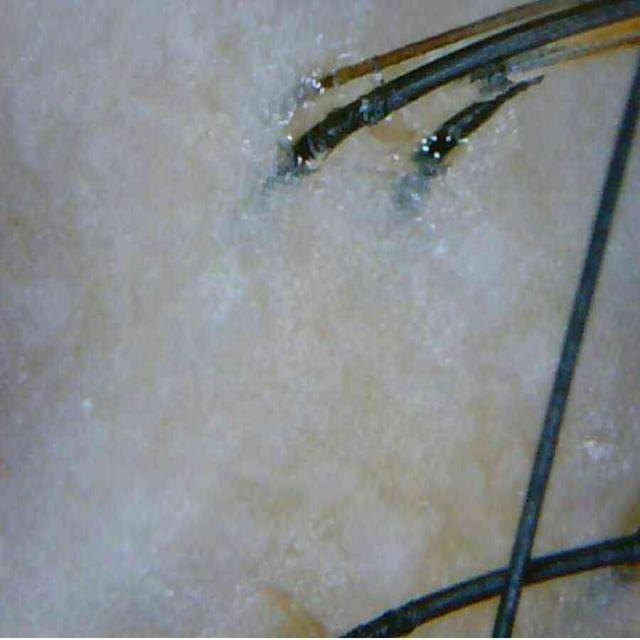o: (352, 116, 421, 187), (396, 135, 451, 222), (280, 74, 325, 125)
